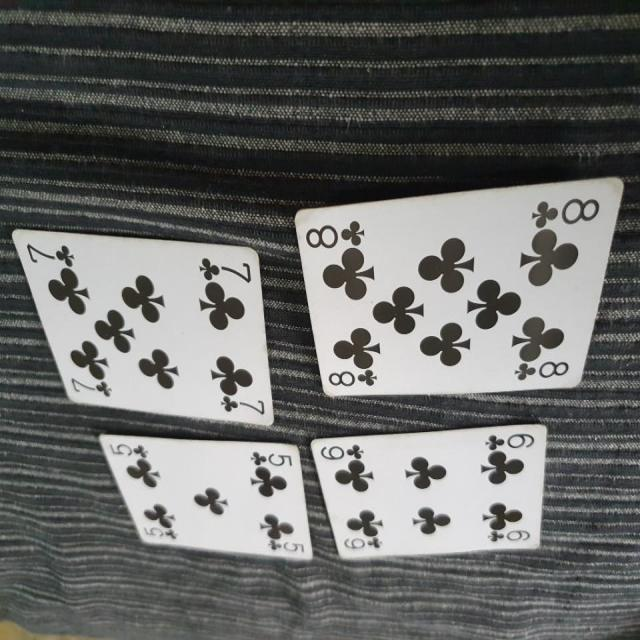5 Trefoils: (96, 430, 312, 566)
6 Trefoils: (308, 418, 548, 561)
7 Trefoils: (9, 227, 276, 426)
8 Trefoils: (292, 169, 626, 400)
